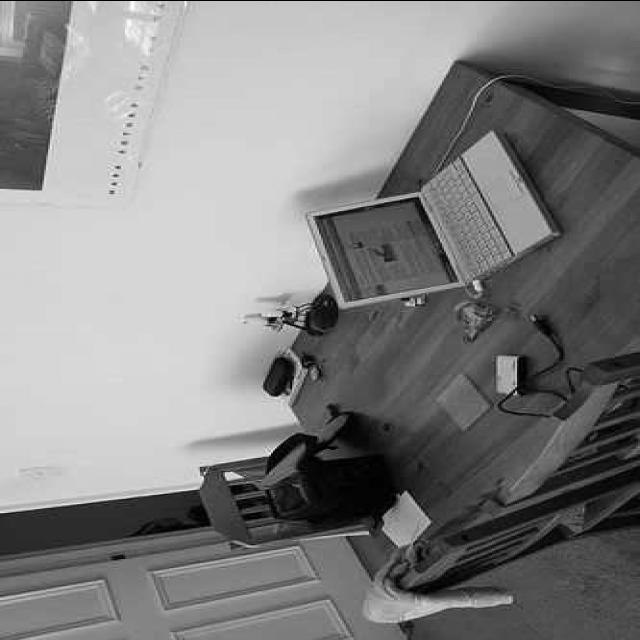laptop: (311, 130, 559, 308)
